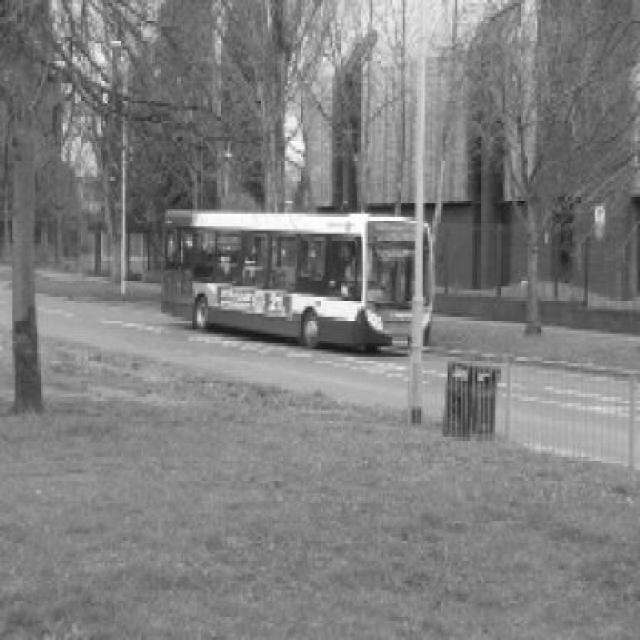Bus: (159, 210, 435, 353)
